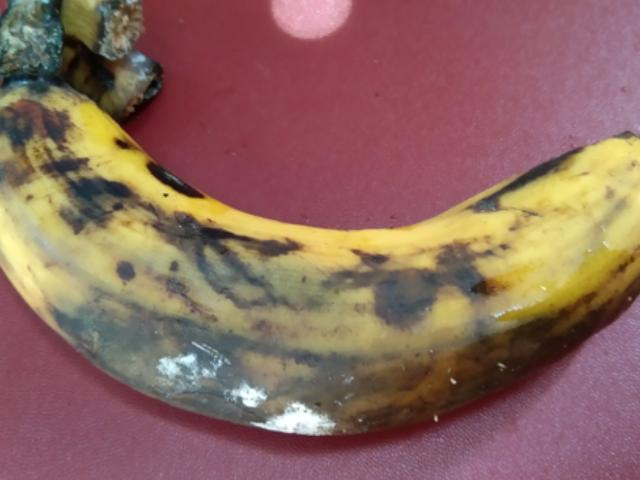rotten: (9, 88, 639, 456)
